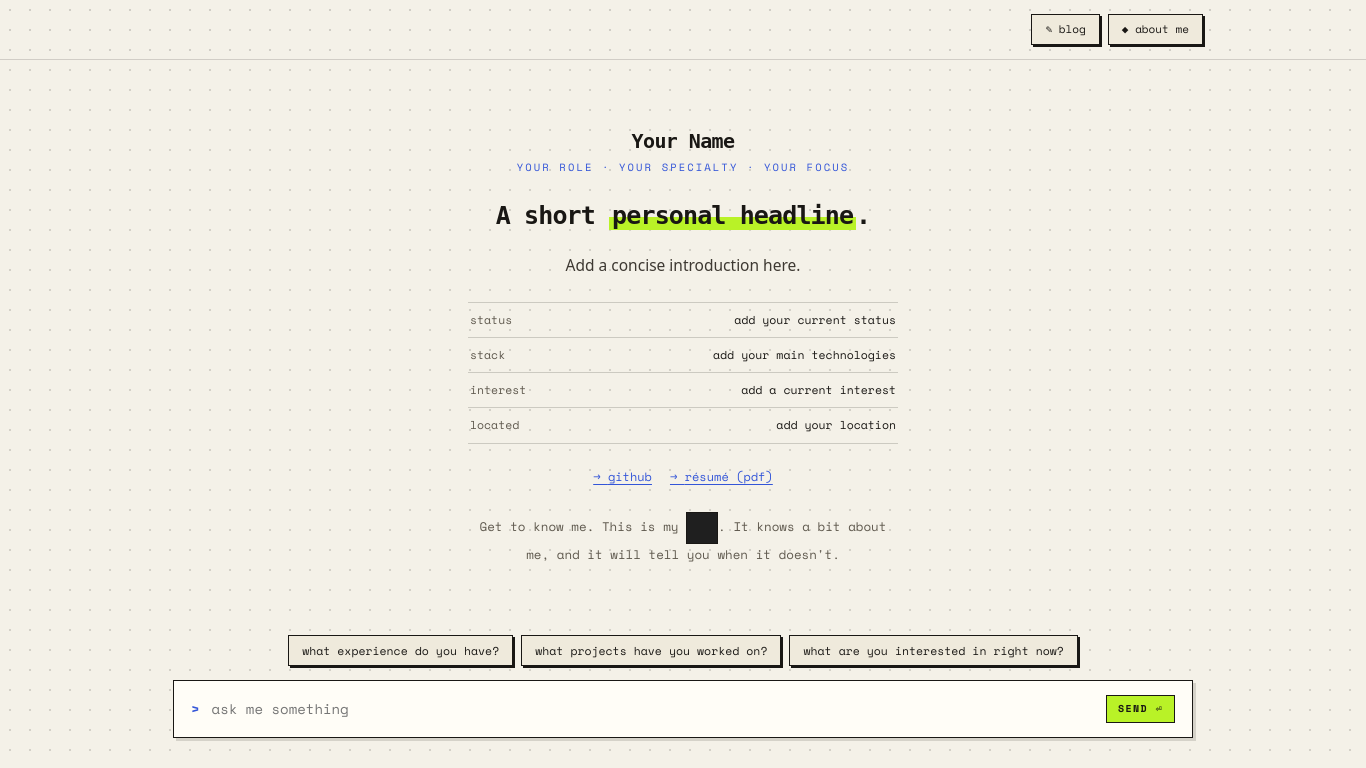
Test: App › asks a suggested question when its chip is clicked
What coordinates should you click on to do the following:
click the button "what experience do you have?"
I would click on:
 (401, 650)
Its box is [288,634,513,666].
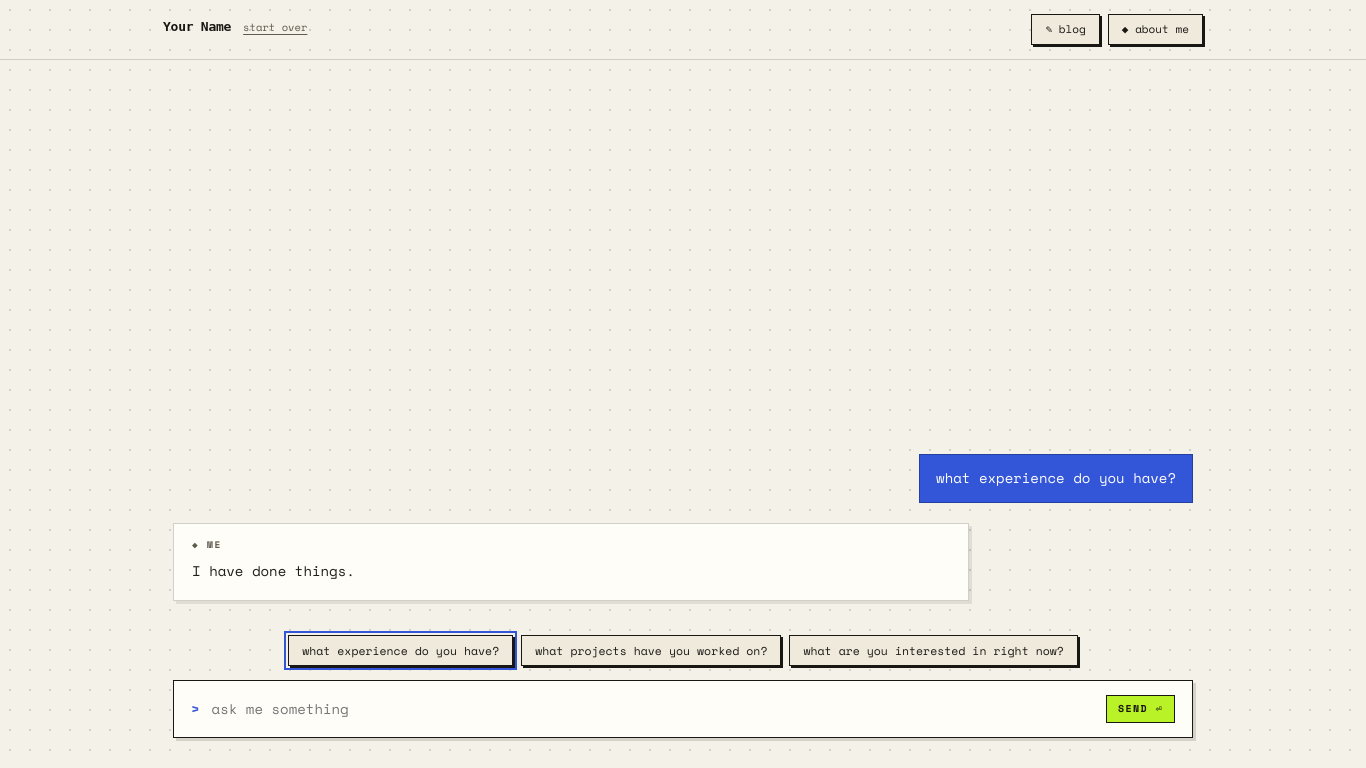
Expected: the text "I have done things." is shown, [192,560,355,581]
Expected: the text "what experience do you have?" is shown, [936,467,1176,490]
Expected: the text "personal headline" is gone
